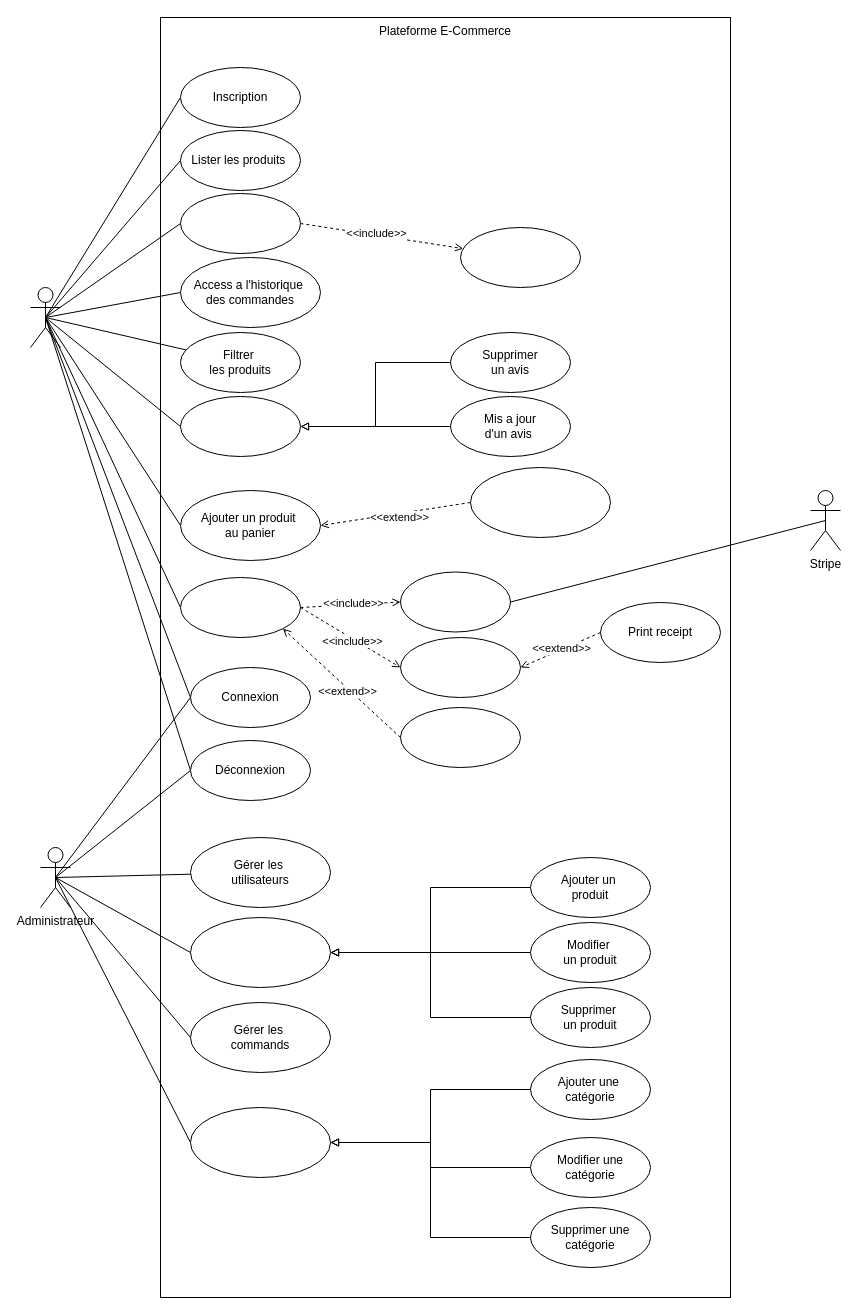
Image size: 858x1315. Some labels were removed from this diagram. The shapes that lost their labels are listed below. From the top down, each one's centre as x and y in pixels, then its label:
the point at 240,223: Voir les details d'un produit
the point at 520,257: Lister tous les avis
the point at 45,317: Client
the point at 240,426: Gérer mes avis
the point at 540,502: Supprimer le produit de panier
the point at 240,607: Checkout
the point at 455,601: Confirm Payment
the point at 460,667: Generate receipt
the point at 460,737: Ajouter un avis
the point at 260,952: Gérer les produits
the point at 260,1142: Gérer les categories
